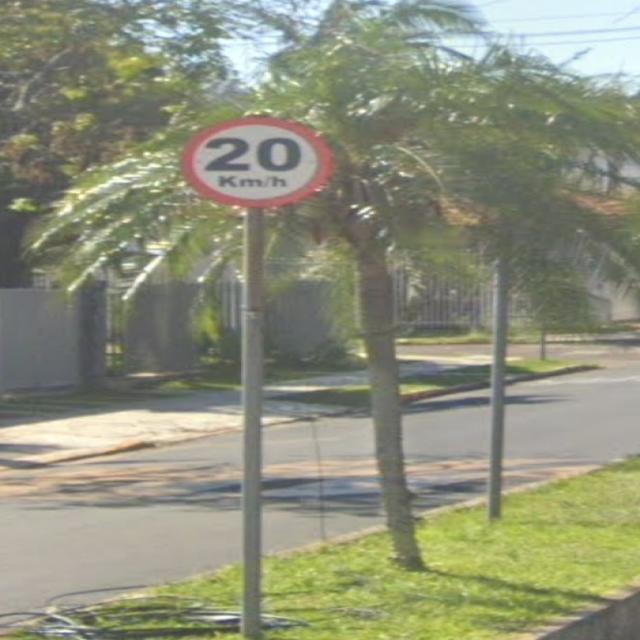speed limit: (165, 103, 352, 216)
